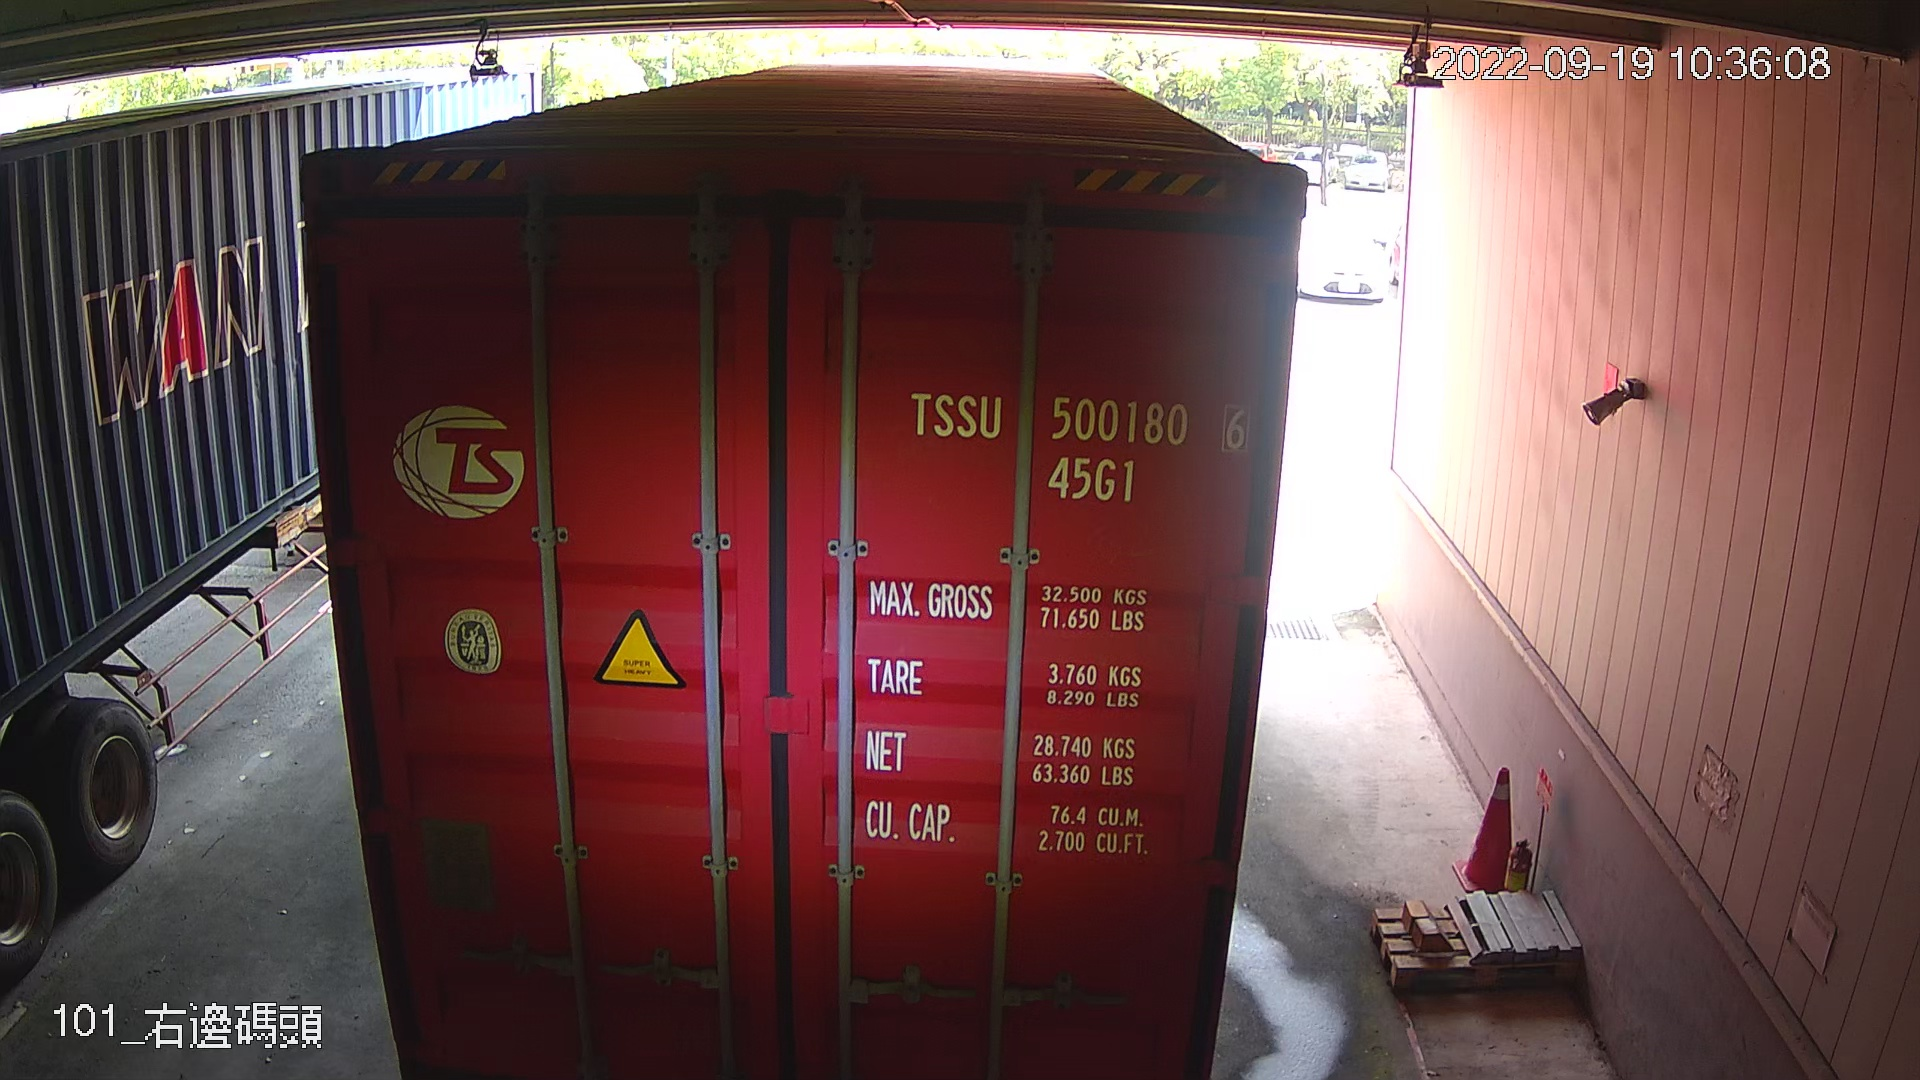container: (903, 368, 1257, 517)
